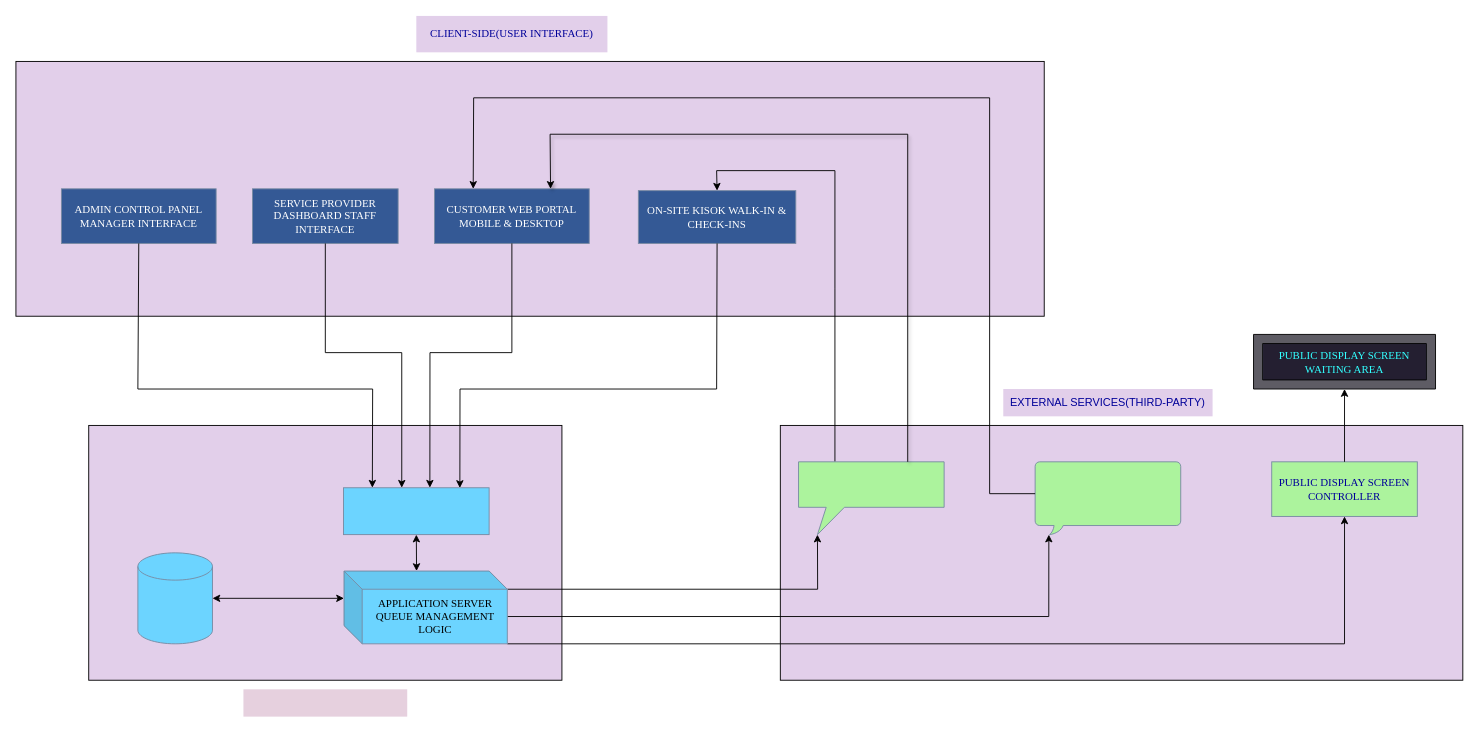
The diagram is 1479 pixels wide and 732 high, and some of its shapes have lost their labels. The shapes that lost their labels are listed below. From the top down, each one's centre as x and y in pixels, then its label:
At pixel 416 511: "WEB SERVER REQUEST HANDELER".
At pixel 871 498: "AI QUERY SYSTEM CUSTOMER SUPPORT".
At pixel 1107 498: "SMS/EMAIL GATEWAY NOTIFICATIONS".
At pixel 174 598: "DATABASE CENTRAL REPOSITORY".
At pixel 325 702: "SERVER-SIDE(BACKEND)".
